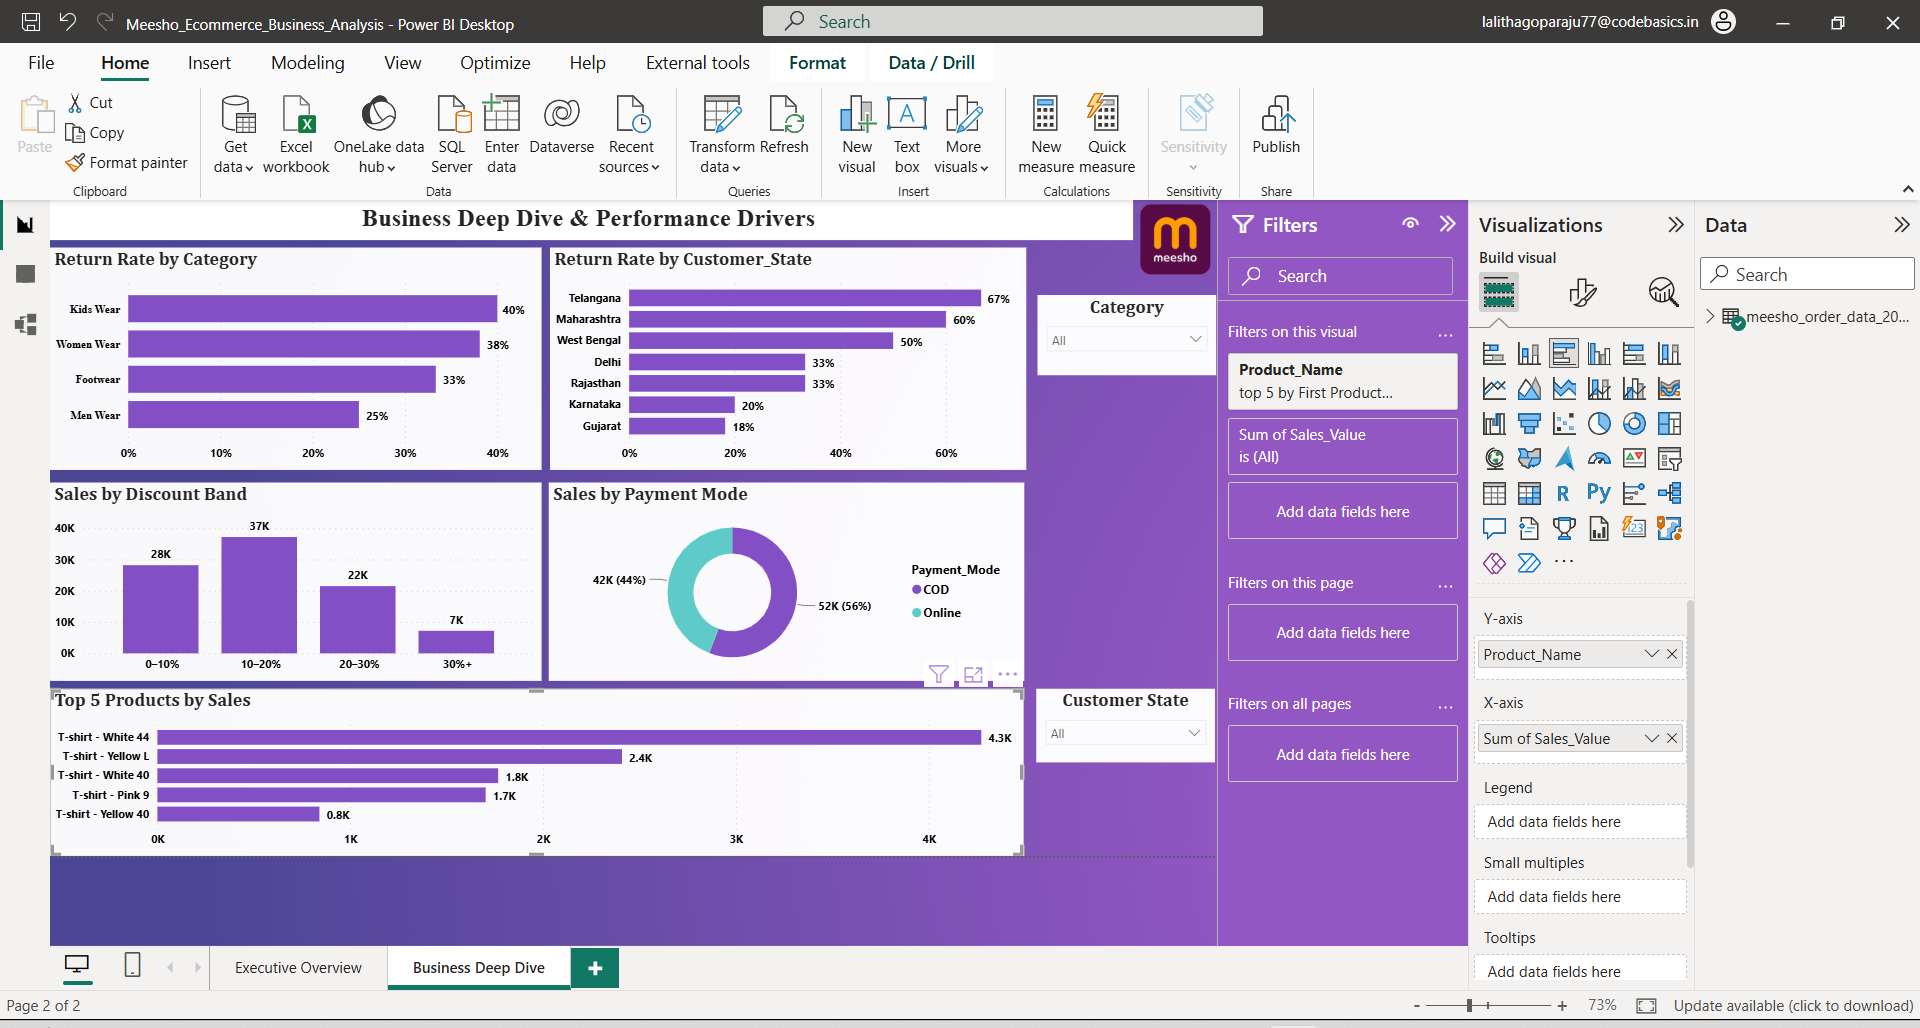

The dashboard page shown, as its layout file describes it:
{"tool":"powerbi","page":{"name":"Business Deep Dive","canvas":[1280,720],"ordinal":1},"visuals":[{"type":"image","box":[1188.2,0,91.7,86.8],"z":0},{"type":"textbox","box":[0,0,1188.2,44],"z":1000},{"type":"clusteredBarChart","fields":{"Y":["meesho_order_data_2025_50rows.Return Rate"],"Category":["meesho_order_data_2025_50rows.Category"]},"box":[0,52.1,538.8,244],"z":2000},{"type":"clusteredBarChart","fields":{"Y":["meesho_order_data_2025_50rows.Return Rate"],"Category":["meesho_order_data_2025_50rows.Customer_State"]},"box":[548.4,52.1,522.4,244],"z":3000},{"type":"clusteredColumnChart","title":"Sales by Discount Band","fields":{"Category":["meesho_order_data_2025_50rows.Discount Band"],"Y":["Sum(meesho_order_data_2025_50rows.Sales_Value)"]},"box":[0,309.3,539.1,217.6],"z":4000},{"type":"donutChart","title":"Sales by Payment Mode","fields":{"Category":["meesho_order_data_2025_50rows.Payment_Mode"],"Y":["Sum(meesho_order_data_2025_50rows.Sales_Value)"]},"box":[547.6,309.3,522,217.6],"z":5000},{"type":"slicer","title":"Category","fields":{"Values":["meesho_order_data_2025_50rows.Category"]},"box":[1083.1,104.2,196.1,87.7],"z":6000},{"type":"slicer","title":"Customer State","fields":{"Values":["meesho_order_data_2025_50rows.Customer_State"]},"box":[1081.8,536.1,196.1,80.9],"z":7000},{"type":"clusteredBarChart","title":"Top 5 Products by Sales","fields":{"Category":["meesho_order_data_2025_50rows.Product_Name"],"Y":["Sum(meesho_order_data_2025_50rows.Sales_Value)"]},"box":[0,536.1,1068,183.7],"z":8000}]}

Visuals, with their boxes on the page's 1280x720 design canvas (x1, y1, x2, y2). These are canvas units, not pixel positions in the 1920x1028 screenshot, which may show the page scaled, cropped or inside an application window:
image: bbox=(1188, 0, 1280, 87)
textbox: bbox=(0, 0, 1188, 44)
clusteredBarChart - meesho_order_data_2025_50rows.Return Rate x meesho_order_data_2025_50rows.Category: bbox=(0, 52, 539, 296)
clusteredBarChart - meesho_order_data_2025_50rows.Return Rate x meesho_order_data_2025_50rows.Customer_State: bbox=(548, 52, 1071, 296)
"Sales by Discount Band" clusteredColumnChart: bbox=(0, 309, 539, 527)
"Sales by Payment Mode" donutChart: bbox=(548, 309, 1070, 527)
"Category" slicer: bbox=(1083, 104, 1279, 192)
"Customer State" slicer: bbox=(1082, 536, 1278, 617)
"Top 5 Products by Sales" clusteredBarChart: bbox=(0, 536, 1068, 720)
